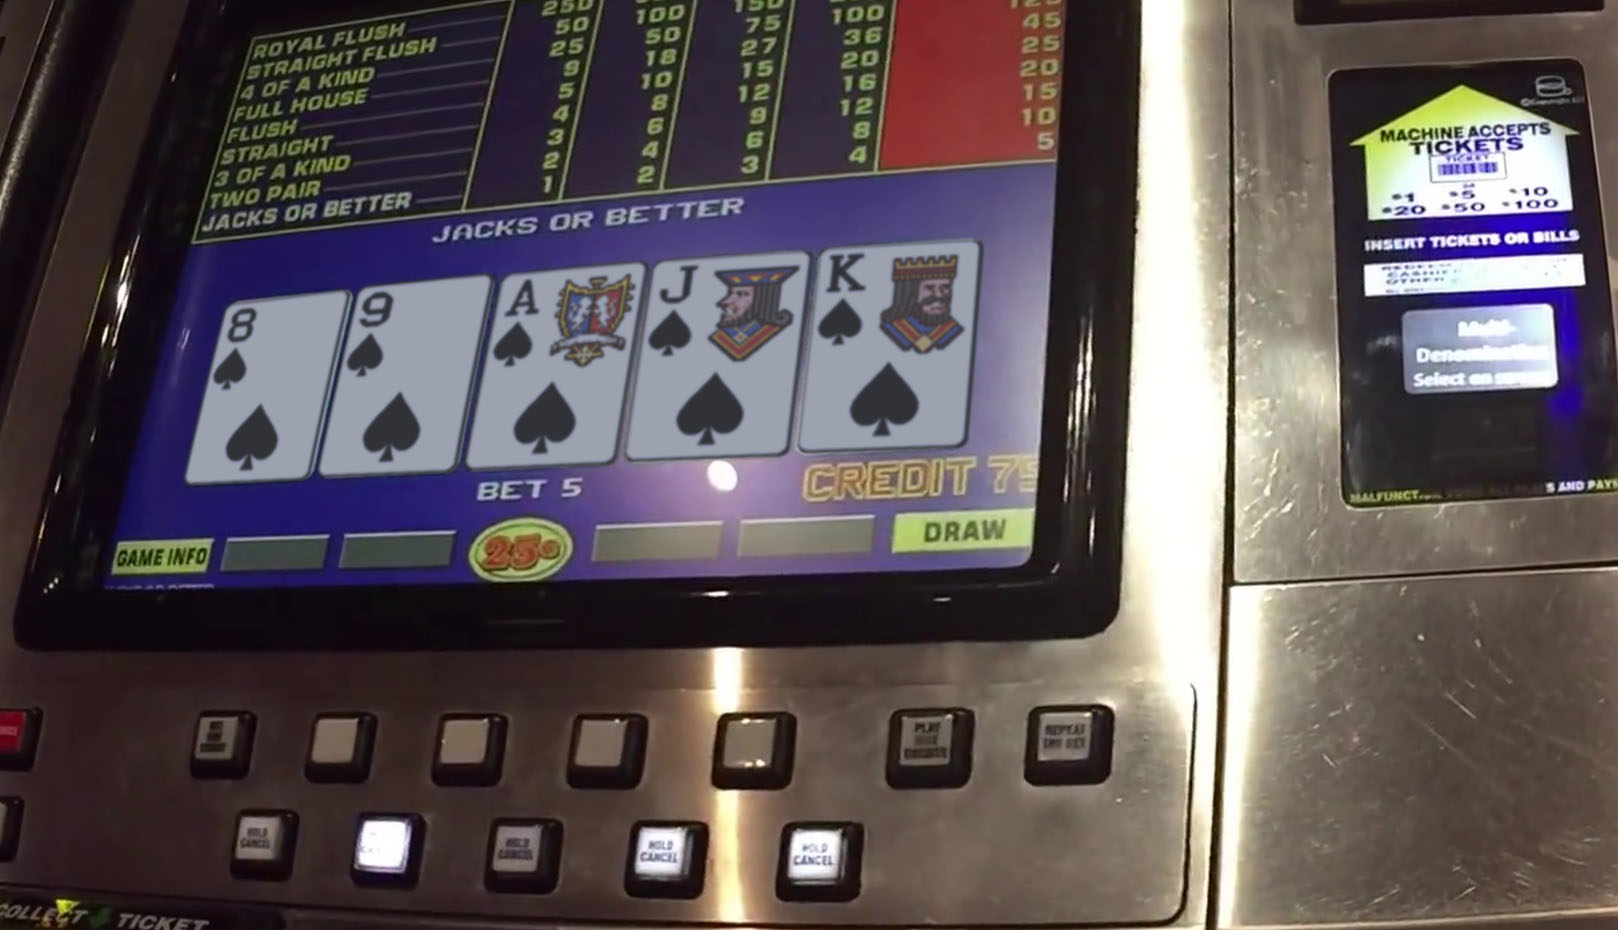S8: (217, 299, 340, 394)
S9: (352, 284, 471, 382)
SA: (495, 268, 637, 376)
SJ: (653, 258, 795, 371)
SK: (816, 248, 973, 357)
